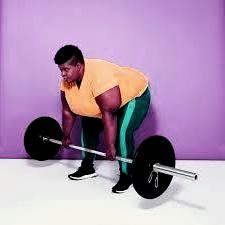Barbell: (187, 170, 199, 187)
